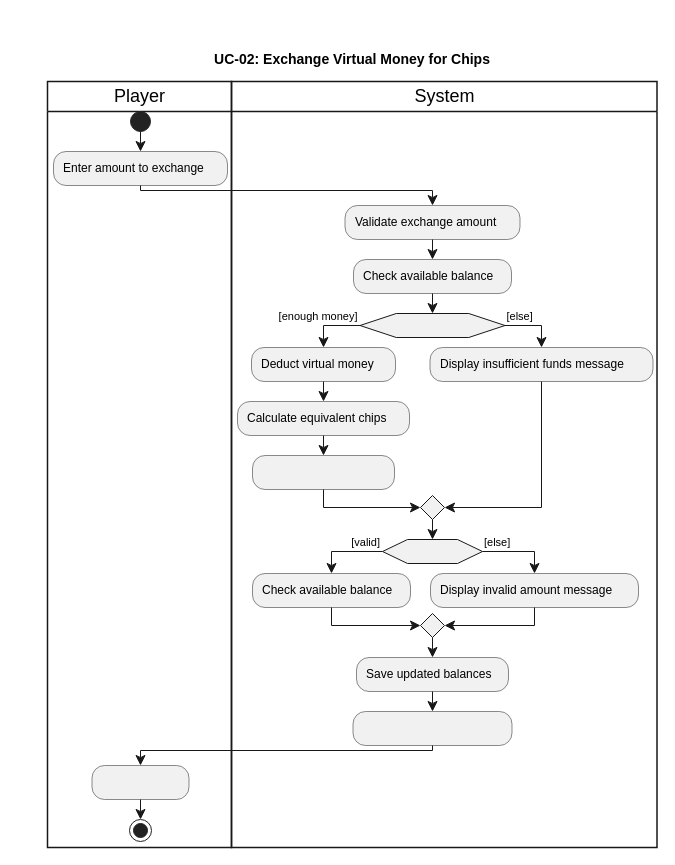
The diagram is 675 pixels wide and 865 high, and some of its shapes have lost their labels. Here are the shapes that lost their labels. From the top down, the centre of each, then its label:
At (x=432, y=325): "Enough virtual money?".
At (x=323, y=472): "Add chips to balance".
At (x=432, y=551): "Amount valid?".
At (x=432, y=728): "Display exchange result".
At (x=140, y=782): "Review result".
